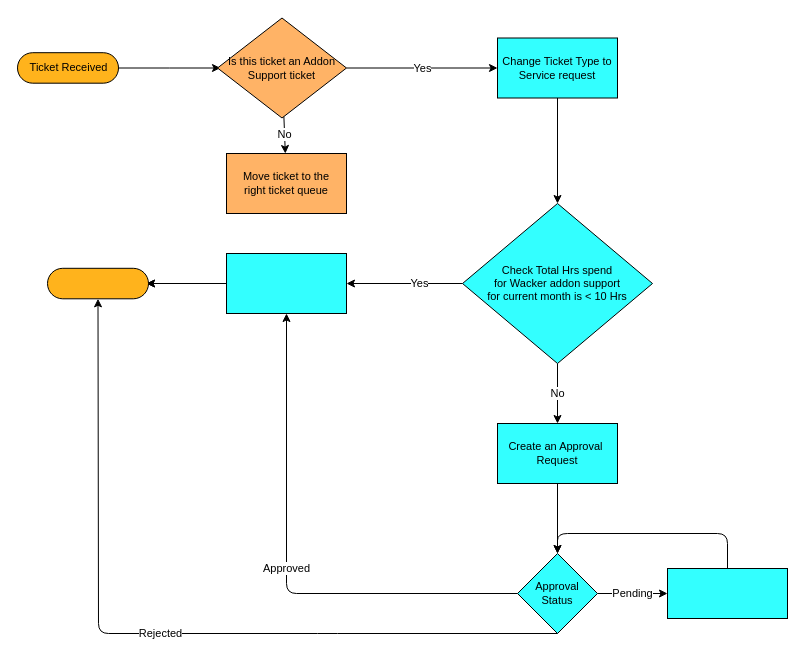
Image size: 805x659. Some labels were removed from this diagram. Each missing label, with the centre of its shape:
"Close Ticket" goes at [97,283].
"Follow up" goes at [727,593].
"Serve Request" goes at [286,283].
